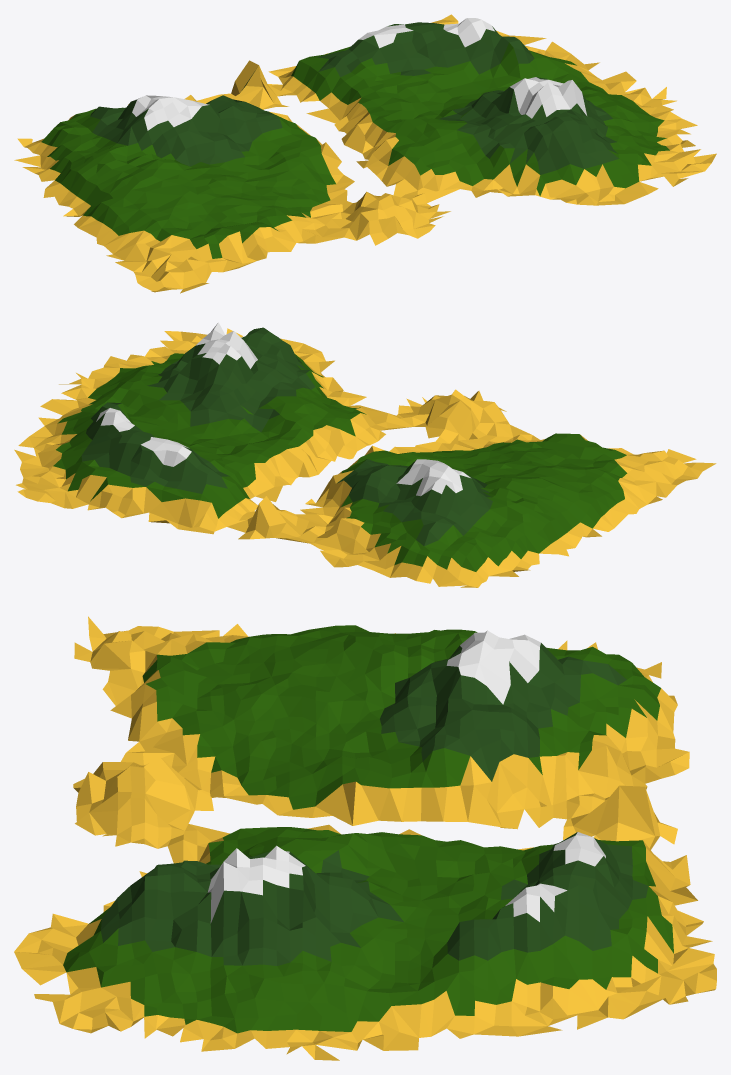
Rendered from islands.fbx.
3 renders of one model, top to bottom at view 1: azimuth 30°, elevation 25°; view 2: azimuth 150°, elevation 25°; view 3: azimuth 270°, elevation 25°, orthographic. The views are drawn at different scales.
Visible parts, largest first — view 1: Plan; view 2: Plan; view 3: Plan.
Part boxes in pixels (x1,y1,x2,y2): Plan: (14, 14, 716, 293); Plan: (14, 322, 716, 587); Plan: (14, 616, 716, 1060).
Size of the model in its own units: 15278 by 1795 by 10332.
